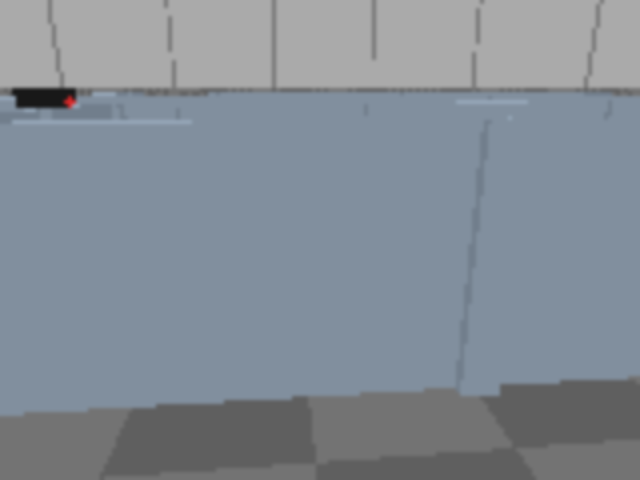person: (0, 0, 20, 314)
